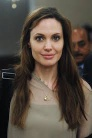female: (22, 13, 72, 79)
